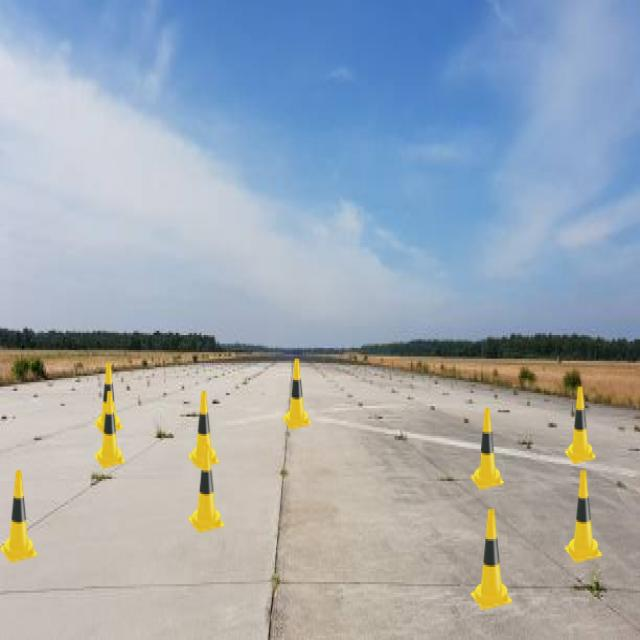yellow_cone: (470, 509, 512, 610), (0, 470, 38, 563), (565, 470, 602, 563), (188, 444, 225, 532), (471, 408, 504, 490), (94, 391, 126, 468), (188, 391, 220, 468), (565, 386, 596, 464), (94, 363, 124, 434), (282, 358, 312, 429)
